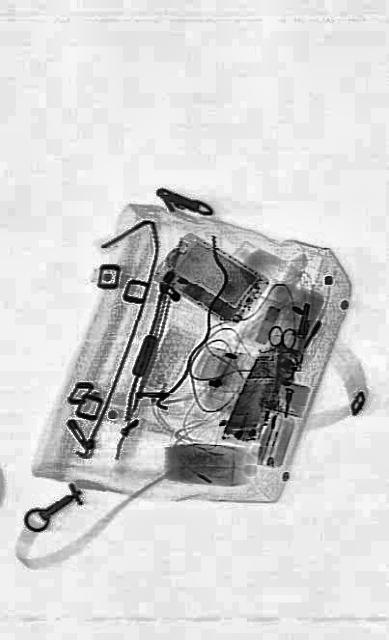Scissors: (262, 322, 296, 394)
